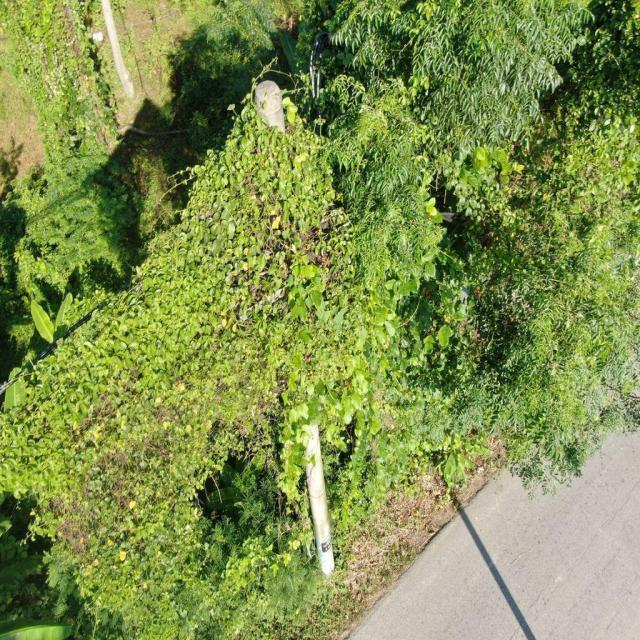critical vegetation: (38, 80, 368, 440)
